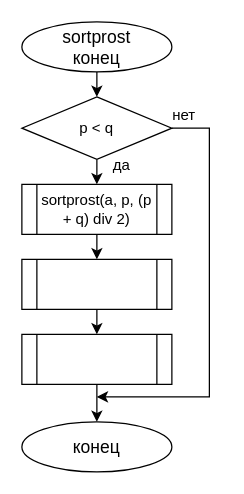
Image size: 244x494. Some labels were removed from this diagram. The centre of each missing label's shape, as x and y in pixels:
sliynie(a, p, q): point 96,358
sortprost(a, (p + q) div 2 + 1, q): point 96,283
